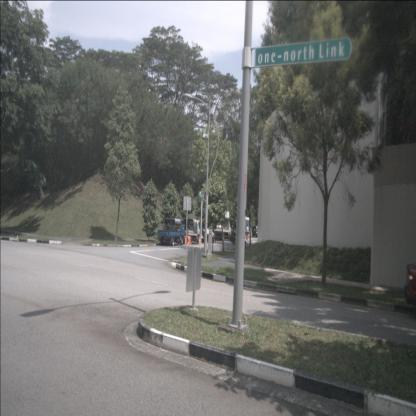human-pedestrian-adult: (245, 225, 249, 240)
movable_object-trafficcone: (198, 236, 201, 245), (244, 233, 247, 241), (189, 235, 191, 246), (248, 232, 250, 240)
vehicle-car: (198, 222, 215, 242), (252, 225, 261, 238)
vehicle-truck: (157, 217, 186, 247), (210, 208, 233, 242), (182, 217, 202, 244)
